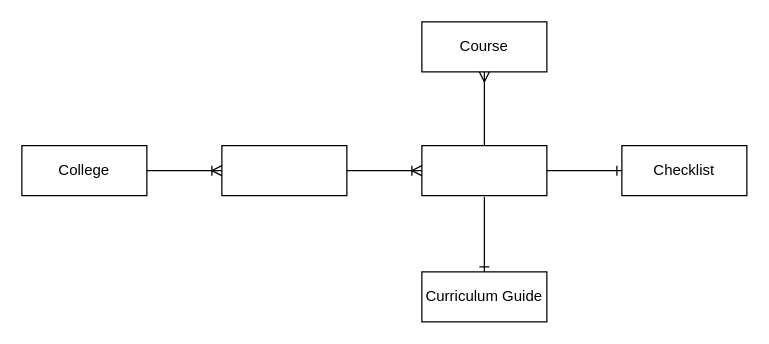
The diagram is 769 pixels wide and 344 high, and some of its shapes have lost their labels. Here are the shapes that lost their labels. From the top down, the centre of each, then its label:
At pixel 284 170: "Department".
At pixel 484 170: "Degree".
